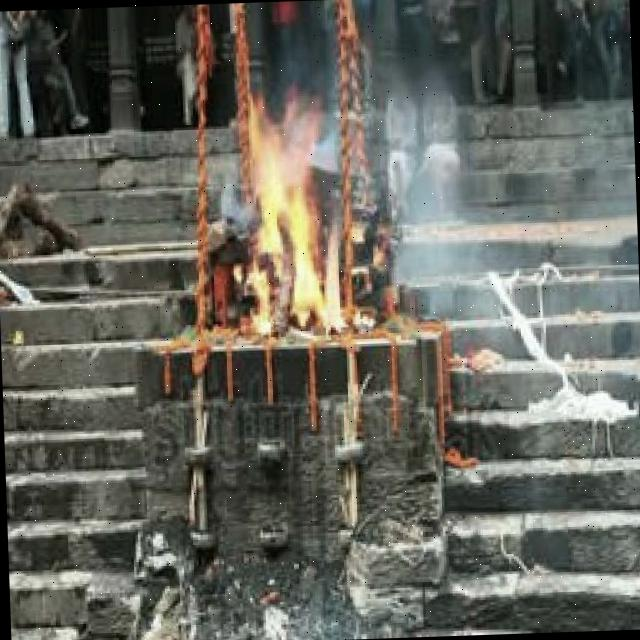fire: (238, 102, 350, 332)
